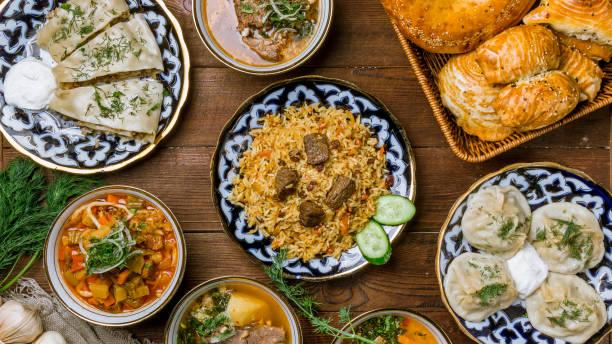Braised Crucian Carp: (211, 74, 412, 280), (380, 0, 608, 162), (3, 1, 191, 174), (436, 161, 611, 342), (42, 184, 184, 328), (192, 0, 335, 75), (164, 274, 302, 343)
